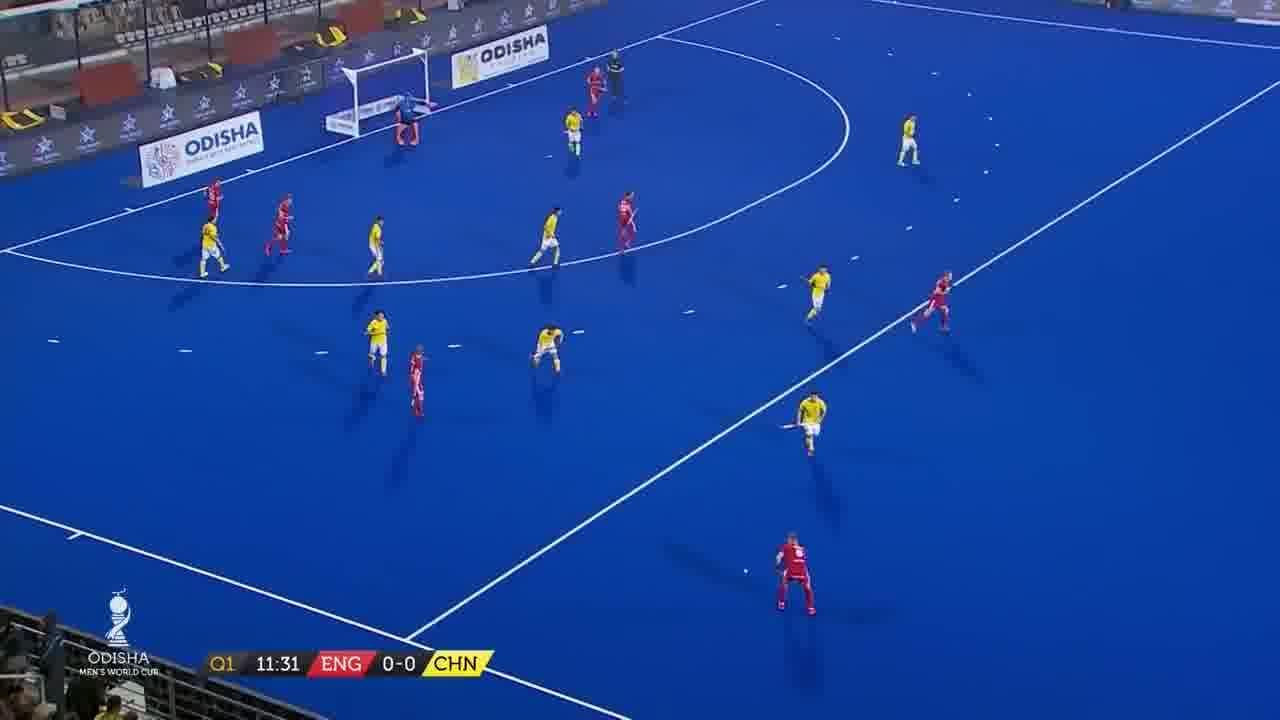ball: (732, 562, 758, 582)
